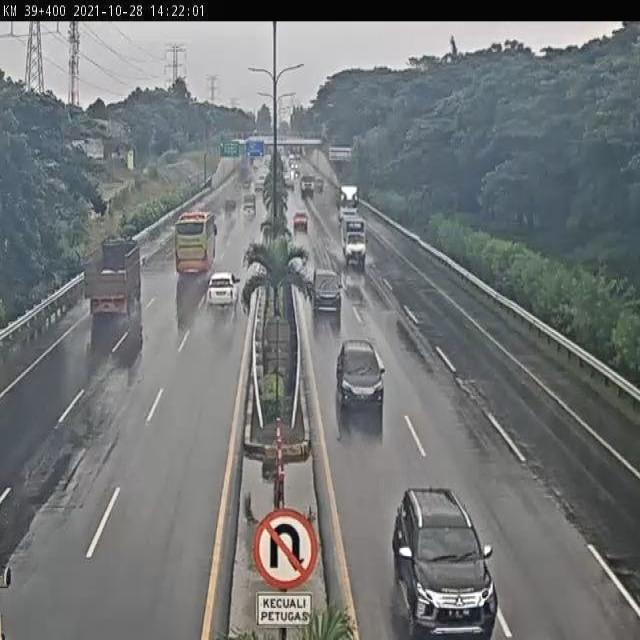Bus: (166, 206, 218, 280)
Car: (387, 476, 503, 636), (334, 336, 388, 416), (308, 267, 347, 316), (204, 265, 240, 311), (289, 205, 315, 242)
Truck: (82, 227, 143, 327), (337, 202, 373, 267)
